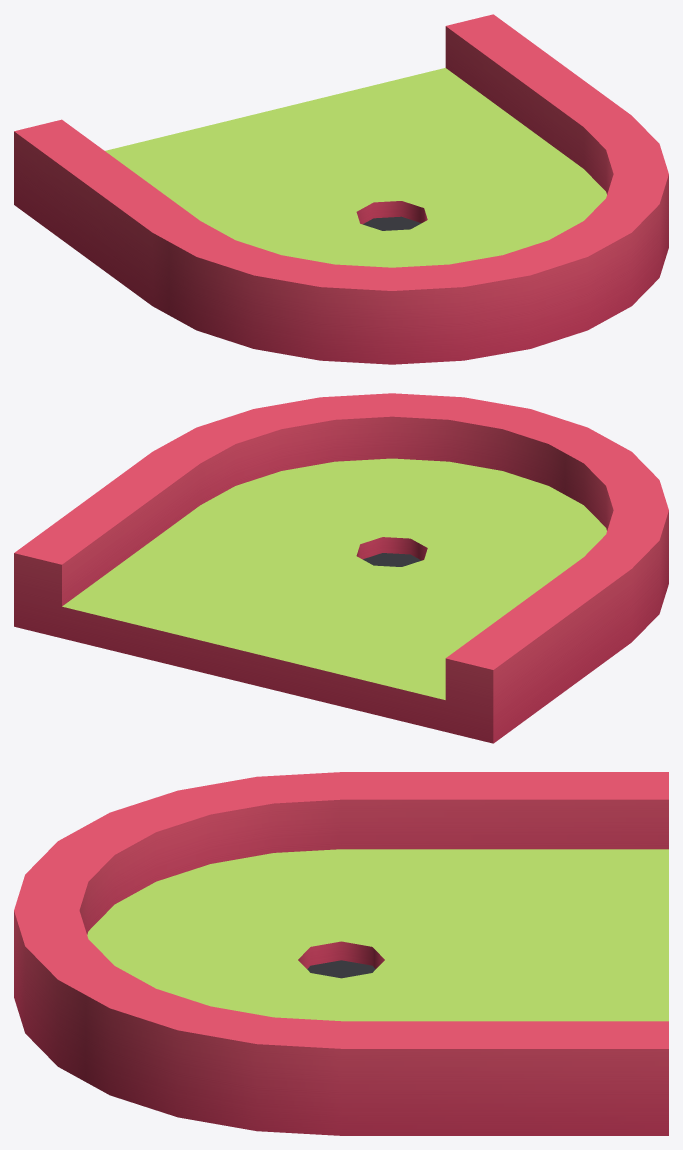
Rendered from hole-round.fbx.
The picture shows the model from 3 angles, top to bottom: view 1: azimuth 30°, elevation 25°; view 2: azimuth 150°, elevation 25°; view 3: azimuth 270°, elevation 25°; orthographic projection. The views are drawn at different scales.
Parts seen in each view (by area): view 1: hole_round; view 2: hole_round; view 3: hole_round.
Part boxes in pixels (x1=…): hole_round: x1=14, y1=14, x2=668, y2=364; hole_round: x1=14, y1=393, x2=668, y2=743; hole_round: x1=14, y1=772, x2=668, y2=1135.
Bounding box in the file's own units: 99.99 × 14.67 × 99.99.
